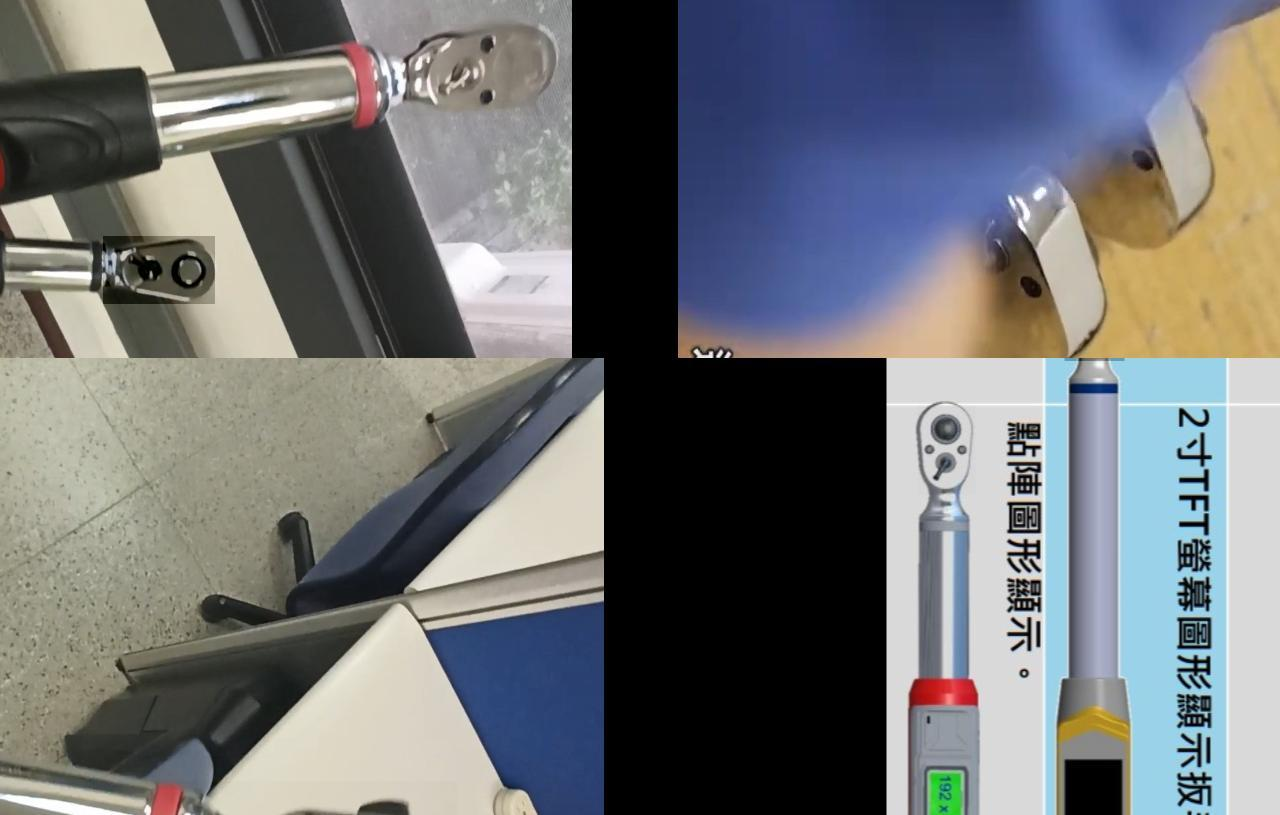Tool: (388, 24, 552, 116), (102, 236, 214, 304), (918, 403, 976, 495)
